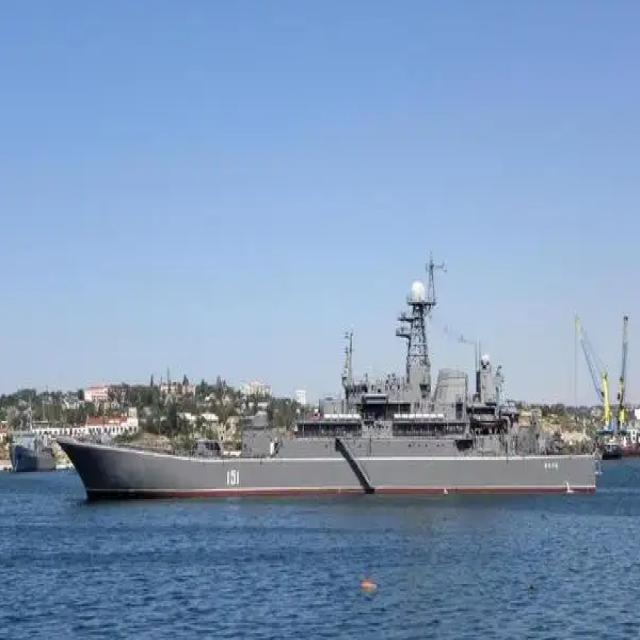navalvessels: (60, 236, 618, 530)
